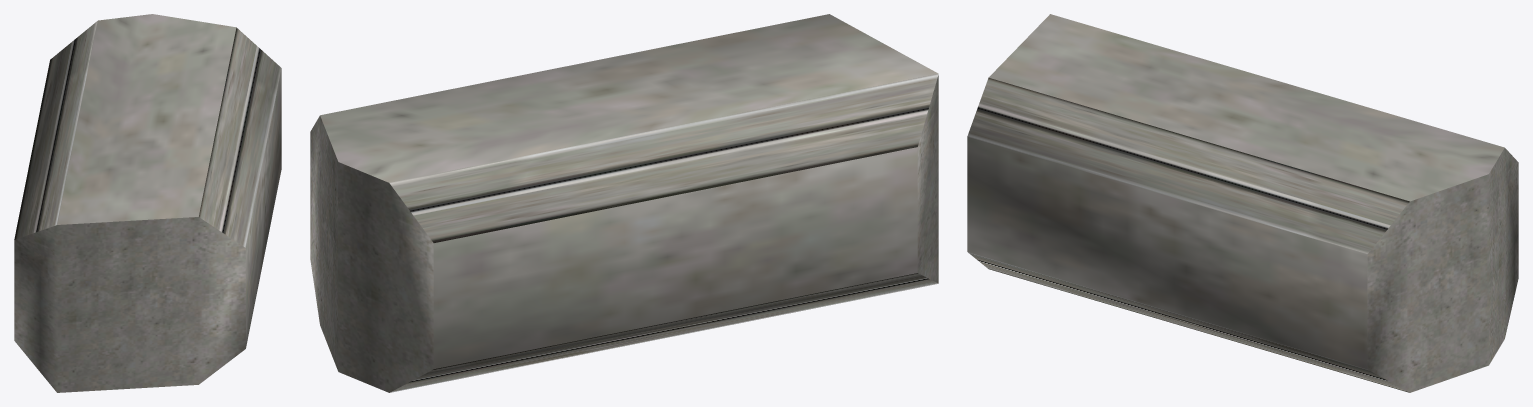
Rendered from DWARF_PALACE_MAINHALL_DEBREE12.fbx.
3 renders of one model, left to right at view 1: azimuth 30°, elevation 25°; view 2: azimuth 150°, elevation 25°; view 3: azimuth 270°, elevation 25°, orthographic. The views are drawn at different scales.
Parts seen in each view (by area): view 1: DWARF_PALACE_MAINHALL_DEBREE12; view 2: DWARF_PALACE_MAINHALL_DEBREE12; view 3: DWARF_PALACE_MAINHALL_DEBREE12.
Boxes of the visible parts, x1,y1,x2,y2 form: DWARF_PALACE_MAINHALL_DEBREE12: (14,14,281,392); DWARF_PALACE_MAINHALL_DEBREE12: (310,14,938,392); DWARF_PALACE_MAINHALL_DEBREE12: (967,14,1518,392).
Bounding box in the file's own units: 46936 × 20000 × 52218.
2 materials, 2 textured.
